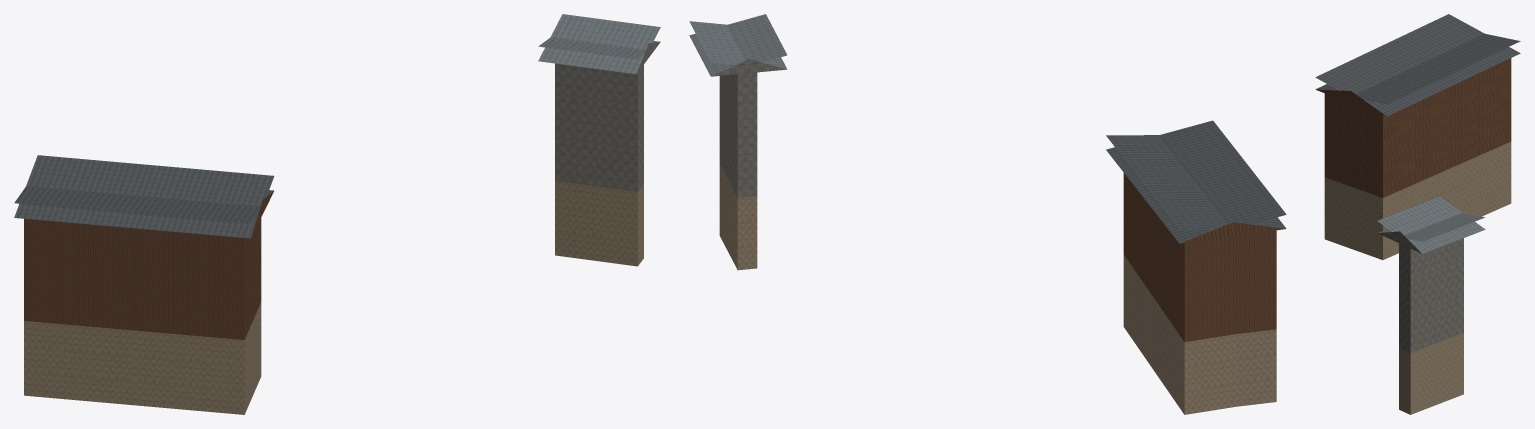
File: bld_c17_27_385.gltf
The picture shows the model from 3 angles, left to right: view 1: azimuth 30°, elevation 25°; view 2: azimuth 150°, elevation 25°; view 3: azimuth 270°, elevation 25°; orthographic projection. The views are drawn at different scales.
Visible parts, largest first — view 1: bld_c17_27_385; view 2: bld_c17_27_385; view 3: bld_c17_27_385.
Part boxes in pixels (bbox=[...]): bld_c17_27_385: bbox=[14, 14, 660, 414]; bld_c17_27_385: bbox=[689, 14, 1286, 414]; bld_c17_27_385: bbox=[1315, 14, 1520, 414].
Size of the model in its own units: 45.03 by 15.6 by 15.31.
Materials: 7 (7 with a texture image).
